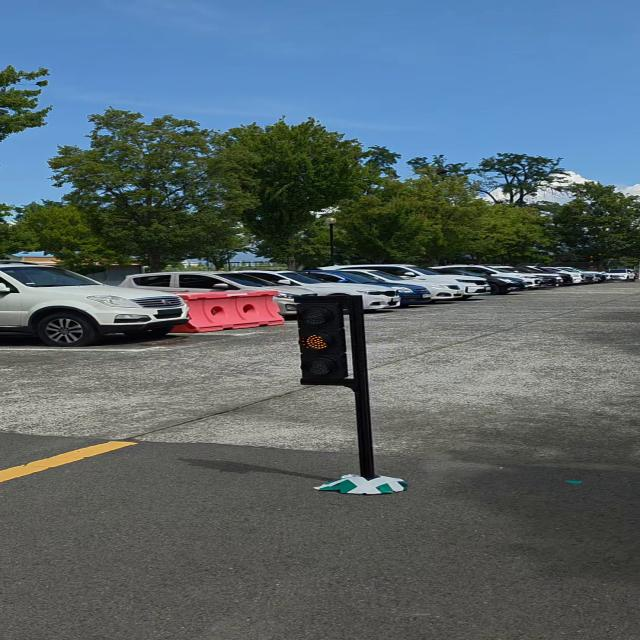yellow: (296, 295, 353, 385)
